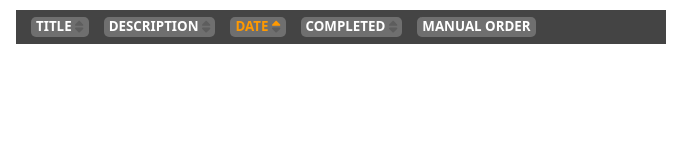
Test: ImportExport › should not change active column
Click the element with test id "createdAt-sort-button-direction-asc": (258, 27) [230,17,286,37]
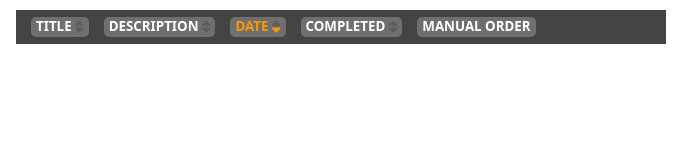
expect the element with test id "title-sort-button-direction-none" is shown: met, box [31,17,89,37]
expect the element with test id "createdAt-sort-button-direction-desc" is shown: met, box [230,17,286,37]
